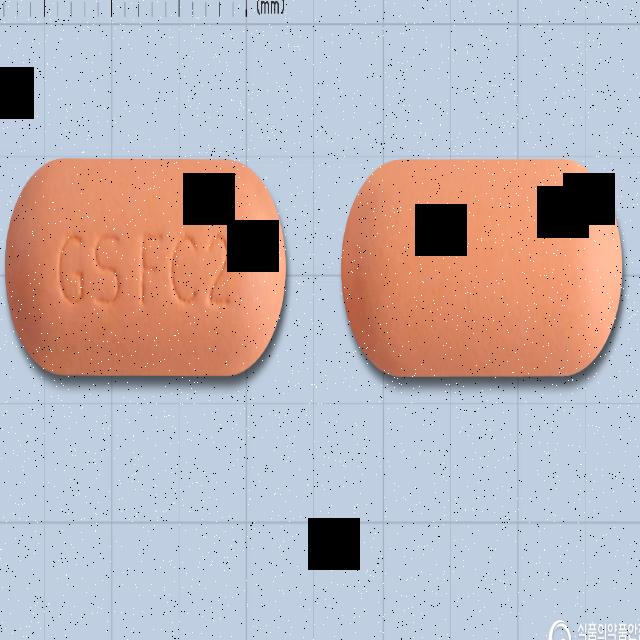Kivexa: (3, 157, 290, 378)
